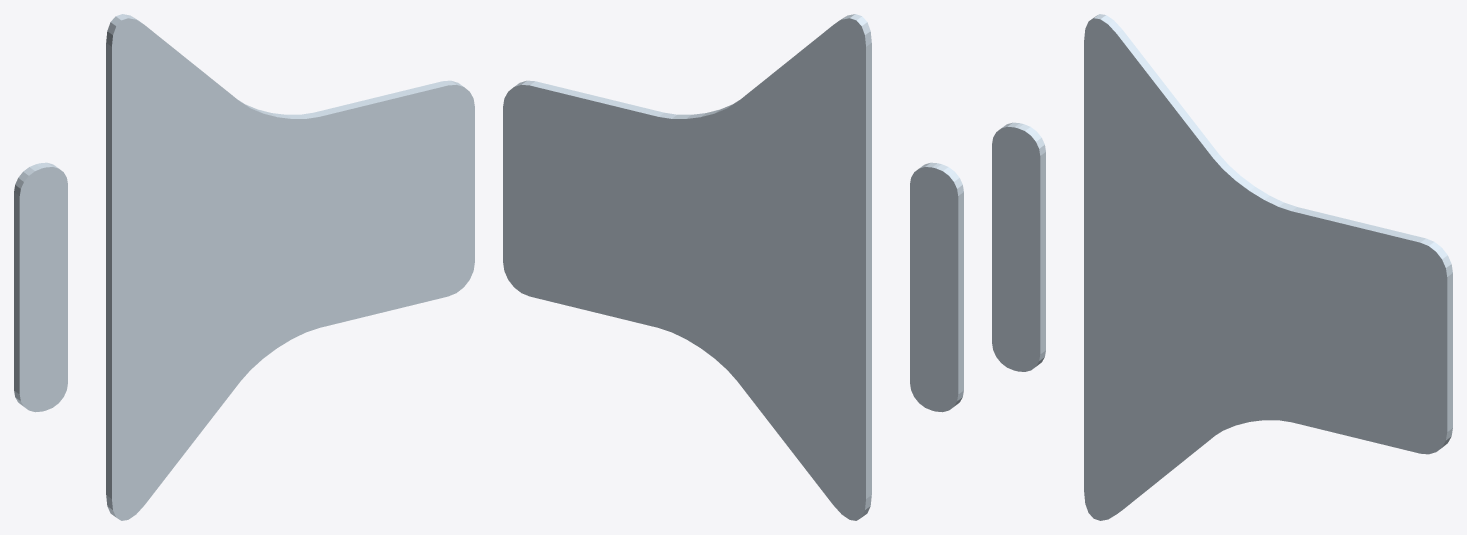
Rendered from Volume_Low_3D_Icon.fbx.
3 views of the same model, side by side, from view 1: azimuth 30°, elevation 25°; view 2: azimuth 150°, elevation 25°; view 3: azimuth 330°, elevation 25° (orthographic).
Parts seen in each view (by area): view 1: Volume_Low_3D_Icon_02; view 2: Volume_Low_3D_Icon_02; view 3: Volume_Low_3D_Icon_02.
Part boxes in pixels (x1,y1,x2,y2): Volume_Low_3D_Icon_02: (14,14,474,520); Volume_Low_3D_Icon_02: (503,14,963,520); Volume_Low_3D_Icon_02: (992,14,1452,520).
Size of the model in its own units: 90.99 by 95.84 by 2.
